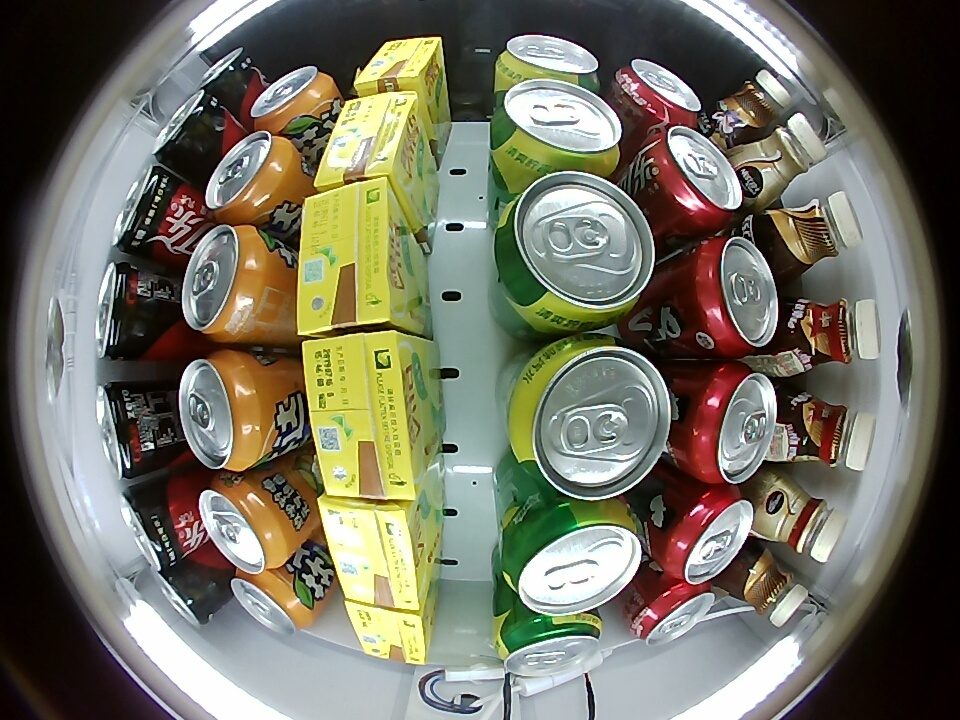fenda: (182, 223, 271, 343), (179, 350, 266, 472), (199, 473, 290, 575), (206, 131, 297, 225), (251, 66, 335, 134), (230, 569, 314, 635)
kafei: (758, 190, 864, 278), (739, 113, 827, 204), (754, 475, 846, 562), (776, 297, 882, 372), (781, 392, 877, 472), (729, 550, 808, 627), (715, 69, 793, 139)
kele: (684, 362, 777, 487), (692, 236, 779, 358), (644, 126, 742, 229), (661, 486, 755, 584), (614, 59, 702, 128), (629, 582, 716, 645)
lingdukele: (96, 381, 174, 480), (94, 259, 166, 360), (120, 478, 198, 571), (113, 164, 185, 262), (152, 88, 228, 169), (157, 556, 228, 628), (198, 47, 257, 101)
weitaningmeng: (302, 330, 429, 500), (296, 176, 413, 333), (317, 496, 433, 611), (314, 92, 422, 190), (345, 598, 433, 665), (353, 36, 444, 99)
xuebi2: (505, 334, 671, 500), (493, 172, 654, 329), (499, 500, 645, 617), (492, 79, 623, 174), (494, 610, 602, 678), (496, 34, 601, 89)
